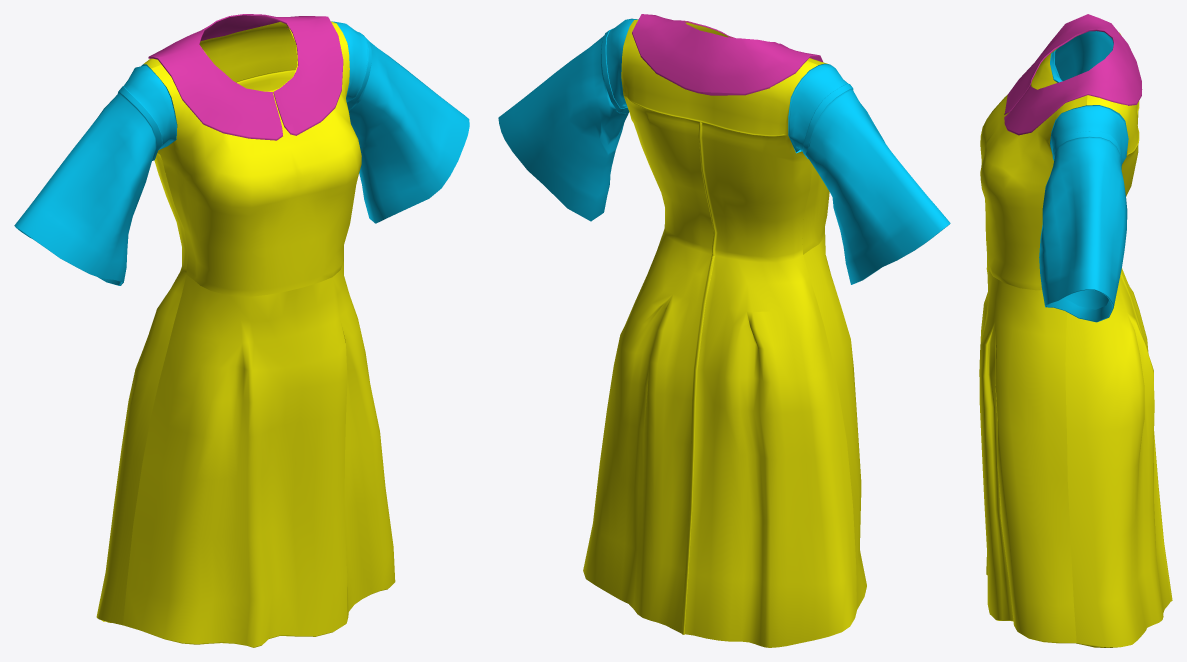
The model's file is landingpage.glb.
3 views of the same model, side by side, from view 1: azimuth 30°, elevation 25°; view 2: azimuth 150°, elevation 25°; view 3: azimuth 270°, elevation 25° (orthographic). The views are drawn at different scales.
Parts seen in each view (by area): view 1: Object_0, Object_2, Object_3; view 2: Object_0, Object_2, Object_3; view 3: Object_0, Object_2, Object_3.
Boxes of the visible parts, x1=… form: Object_0: x1=96, y1=21, x2=395, y2=647; Object_2: x1=14, y1=21, x2=469, y2=285; Object_3: x1=148, y1=14, x2=343, y2=140; Object_0: x1=583, y1=19, x2=866, y2=647; Object_2: x1=498, y1=18, x2=950, y2=284; Object_3: x1=632, y1=14, x2=822, y2=95; Object_0: x1=979, y1=32, x2=1172, y2=647; Object_2: x1=1039, y1=31, x2=1128, y2=322; Object_3: x1=1004, y1=14, x2=1142, y2=135.
Bounding box in the file's own units: 2.74 × 3.41 × 1.06.
